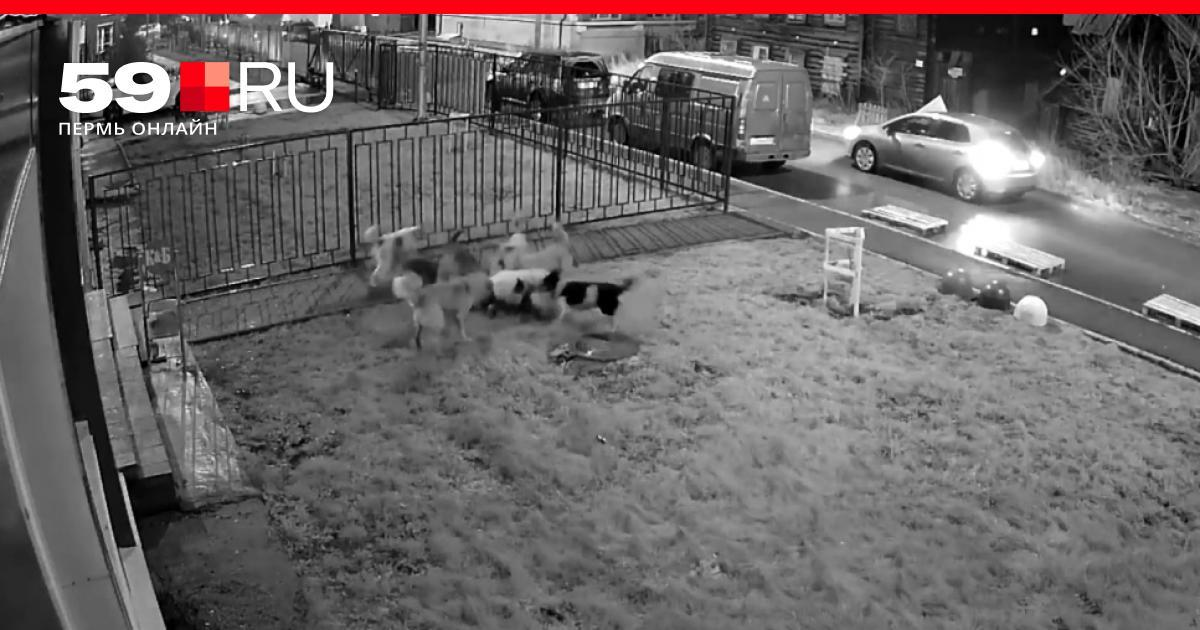dog_aggressive: (539, 266, 637, 333), (363, 222, 424, 282)
normal_dogs: (394, 267, 486, 348), (501, 220, 574, 278), (484, 269, 553, 317)
